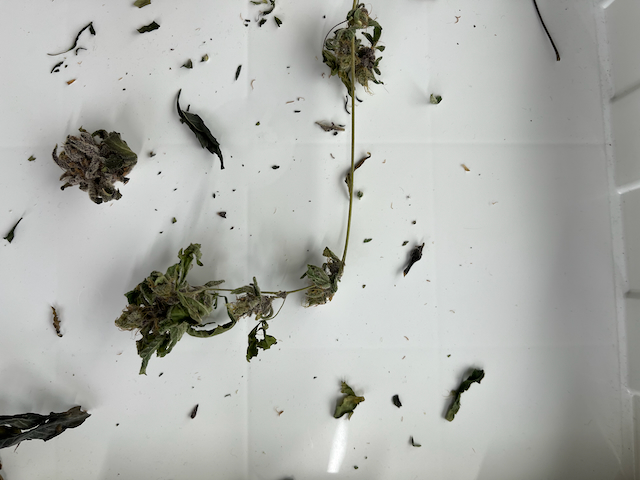Bud: (117, 270, 213, 342), (55, 130, 133, 200), (325, 29, 382, 88), (303, 266, 337, 308), (228, 292, 277, 319), (343, 5, 372, 30)
